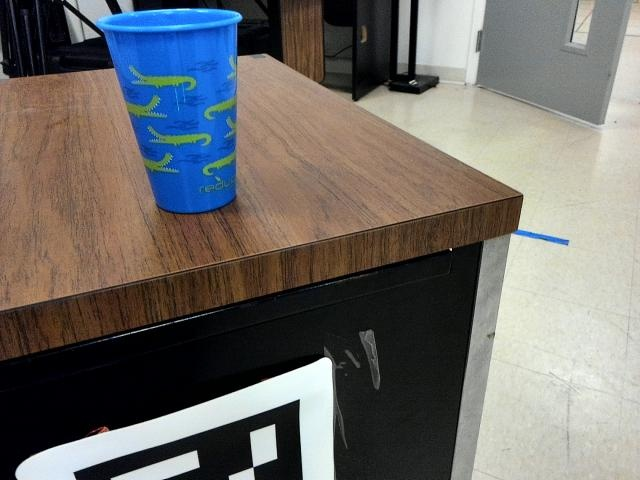water_cup: (96, 5, 253, 222)
